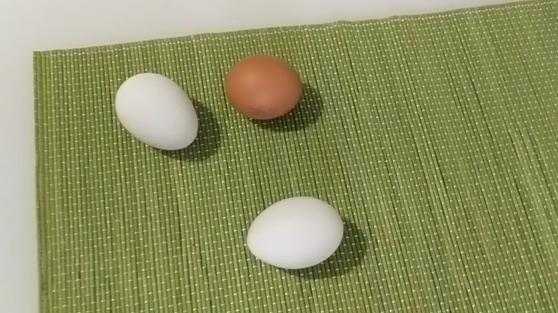egg: (243, 195, 346, 272), (113, 70, 199, 152), (225, 55, 306, 119)
